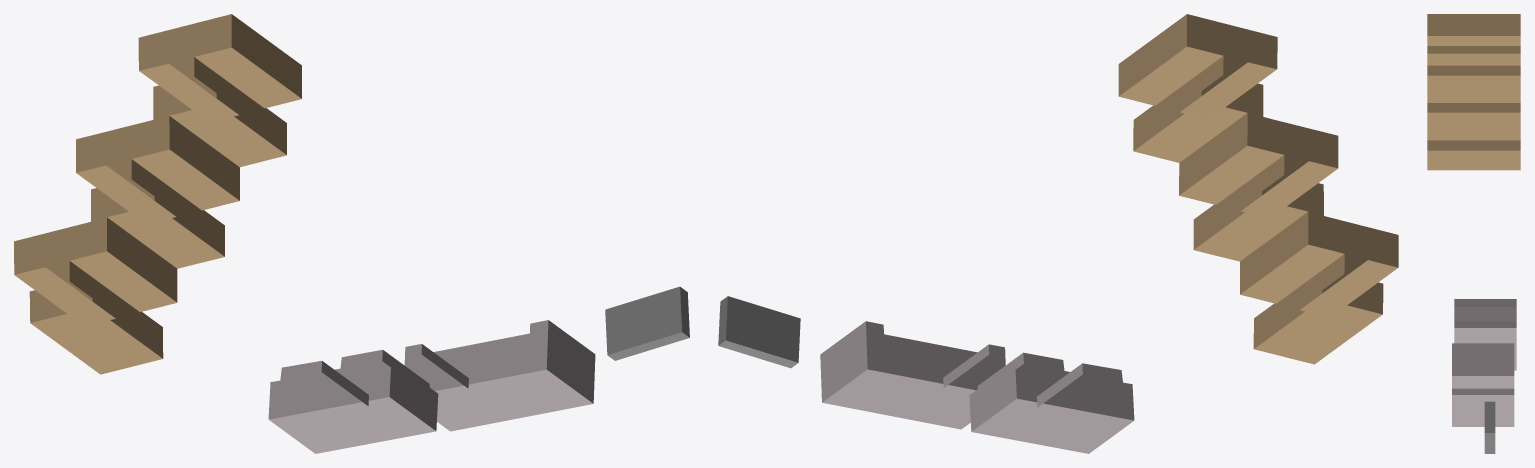
3 views of the same model, side by side, from view 1: azimuth 30°, elevation 25°; view 2: azimuth 150°, elevation 25°; view 3: azimuth 270°, elevation 25° (orthographic). The views are drawn at different scales.
Parts seen in each view (by area): view 1: 0_3_2_0_2_0_2; view 2: 0_3_2_0_2_0_2; view 3: 0_3_2_0_2_0_2.
Part boxes in pixels (x1=…): 0_3_2_0_2_0_2: x1=14, y1=14, x2=689, y2=453; 0_3_2_0_2_0_2: x1=718, y1=14, x2=1398, y2=453; 0_3_2_0_2_0_2: x1=1427, y1=14, x2=1520, y2=453.
Bounding box in the file's own units: 144 × 90.51 × 27.
